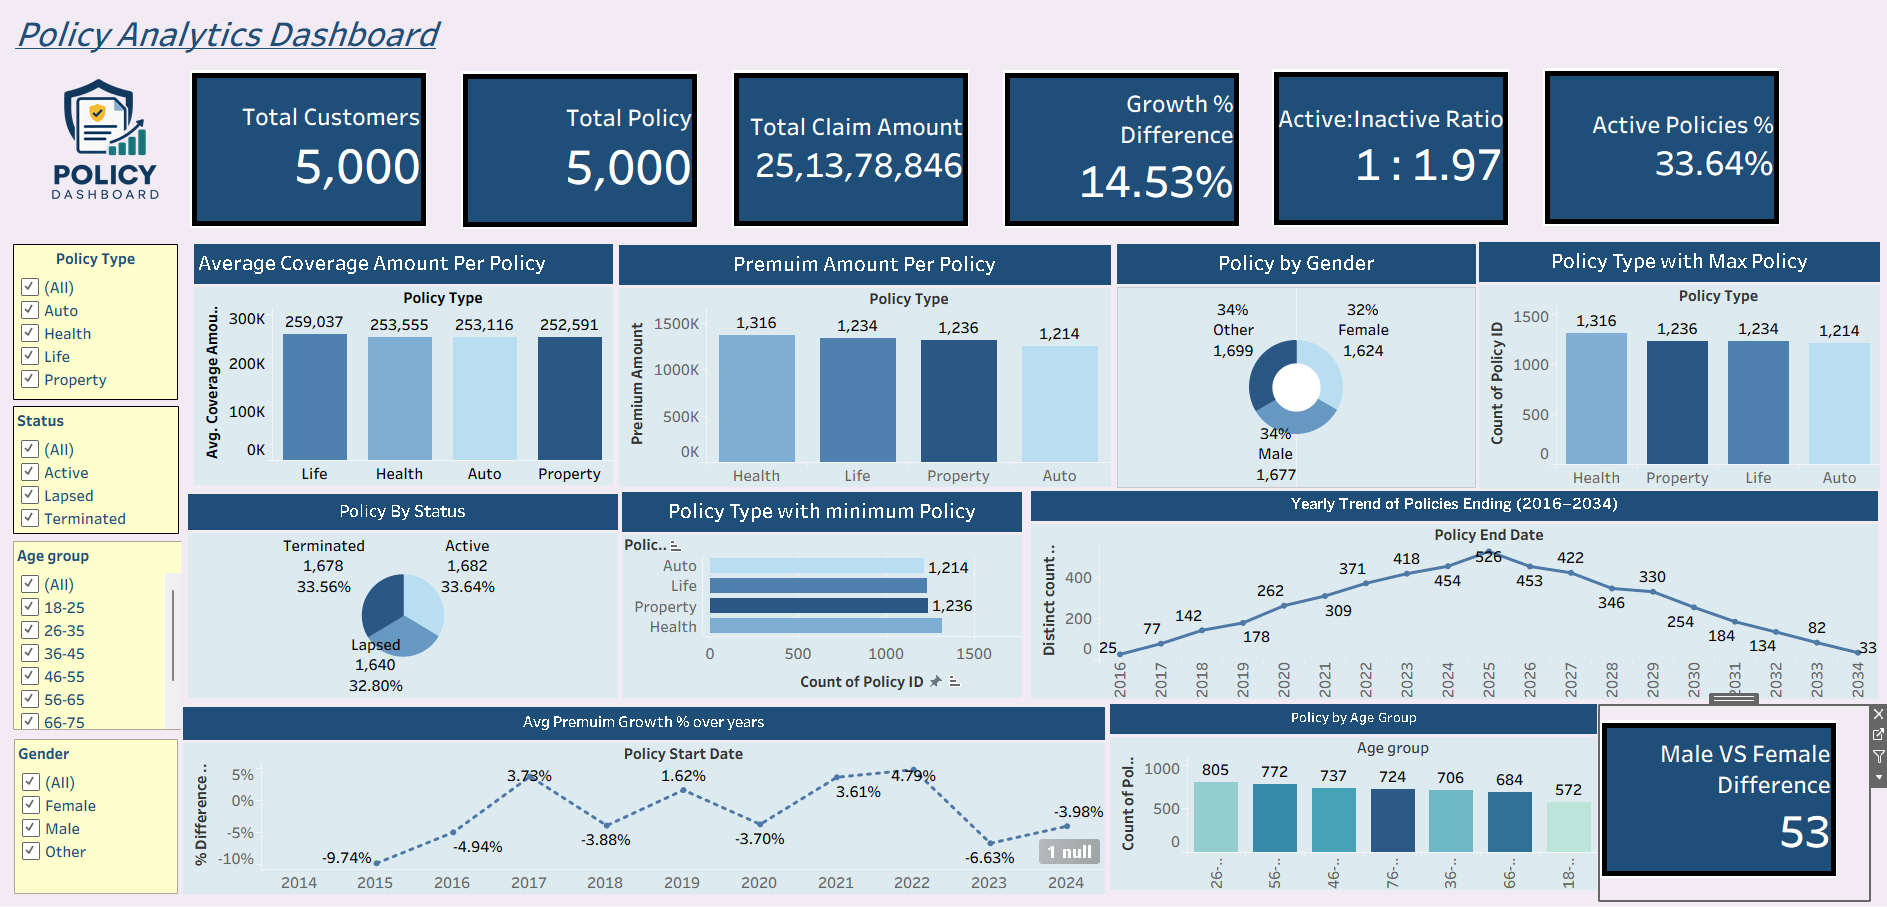

The dashboard page shown, as its layout file describes it:
{"tool":"tableau","page":{"name":"Dashboard 1","canvas":[1000,1000],"units":"permille","ordinal":0},"visuals":[{"type":"title","box":[4.2,9.4,991.5,67]},{"type":"worksheet","title":"6","mark":"Automatic","box":[817.1,63.5,149.7,203.3]},{"type":"worksheet","title":"9","mark":"Automatic","box":[673.5,64.6,148.5,232.7]},{"type":"worksheet","title":"1","mark":"Automatic","box":[100.8,65.8,149.7,203.3]},{"type":"worksheet","title":"3","mark":"Automatic","box":[387.4,65.8,143.6,213.9]},{"type":"worksheet","title":"19","mark":"Automatic","box":[531.1,65.8,158.7,204.5]},{"type":"worksheet","title":"2","mark":"Automatic","box":[244.4,67,146.1,205.6]},{"type":"worksheet","title":"14","mark":"Automatic","rows":["Policy ID"],"cols":["Policy Type"],"box":[783.3,270.3,212.4,271.4]},{"type":"filter","title":"4.1","param":"[federated.1rjwa8y1yr3f7s185h67c1y7q8z6].[none:Policy Type:nk]","box":[6.6,272.6,87.5,171.6]},{"type":"worksheet","title":"4.1","mark":"Automatic","rows":["Coverage Amount"],"cols":["Policy Type"],"box":[102.6,272.6,222.1,264.4]},{"type":"worksheet","title":"12","mark":"Pie","cols":["Calculation_1027810636406789","Calculation_1027810636406789"],"box":[591.4,272.6,190.1,267.9]},{"type":"worksheet","title":"5","mark":"Automatic","rows":["Premium Amount"],"cols":["Policy Type"],"box":[327.7,273.8,260.7,265.6]},{"type":"filter","title":"7,8","param":"[federated.1rjwa8y1yr3f7s185h67c1y7q8z6].[none:Status:nk]","box":[6.9,450.1,87.9,141]},{"type":"worksheet","title":"20","mark":"Line","rows":["Policy ID"],"cols":["Policy End Date"],"box":[543.1,542.9,436.9,226.8]},{"type":"worksheet","title":"15","mark":"Automatic","rows":["Policy Type"],"cols":["Policy ID"],"box":[329.5,544.1,211.8,226.8]},{"type":"worksheet","title":"7,8","mark":"Pie","box":[99.6,546.4,227.5,224.4]},{"type":"filter","title":"12","param":"[federated.1rjwa8y1yr3f7s185h67c1y7q8z6].[none:Calculation_1027810632351748:nk]","box":[6.6,598.1,89.3,208]},{"type":"worksheet","title":"13","mark":"Automatic","box":[849.7,774.4,153.3,212.7]},{"type":"worksheet","title":"10,11","mark":"Automatic","rows":["Policy Type"],"cols":["Calculation_1027810632351748"],"box":[587.8,776.7,258.3,205.6]},{"type":"worksheet","title":"18","mark":"Automatic","rows":["Premium Amount"],"cols":["Policy Start Date"],"box":[97.2,780.3,488.2,205.6]},{"type":"filter","title":"12","param":"[federated.1rjwa8y1yr3f7s185h67c1y7q8z6].[none:Gender:nk]","box":[7.2,815.5,86.9,170.4]}]}

Visuals, with their boxes on the dashboard's canvas, which has no fixed pixel size, in thousandths of its width and height (x1, y1, x2, y2). These are canvas units, not pixel positions in the 1887x907 screenshot, which may show the page scaled, cropped or inside an application window:
title: (left=4, top=9, right=996, bottom=76)
"6" worksheet: (left=817, top=64, right=967, bottom=267)
"9" worksheet: (left=674, top=65, right=822, bottom=297)
"1" worksheet: (left=101, top=66, right=250, bottom=269)
"3" worksheet: (left=387, top=66, right=531, bottom=280)
"19" worksheet: (left=531, top=66, right=690, bottom=270)
"2" worksheet: (left=244, top=67, right=390, bottom=273)
"14" worksheet: (left=783, top=270, right=996, bottom=542)
"4.1" filter: (left=7, top=273, right=94, bottom=444)
"4.1" worksheet: (left=103, top=273, right=325, bottom=537)
"12" worksheet (Pie marks): (left=591, top=273, right=782, bottom=540)
"5" worksheet: (left=328, top=274, right=588, bottom=539)
"7,8" filter: (left=7, top=450, right=95, bottom=591)
"20" worksheet (Line marks): (left=543, top=543, right=980, bottom=770)
"15" worksheet: (left=330, top=544, right=541, bottom=771)
"7,8" worksheet (Pie marks): (left=100, top=546, right=327, bottom=771)
"12" filter: (left=7, top=598, right=96, bottom=806)
"13" worksheet: (left=850, top=774, right=1003, bottom=987)
"10,11" worksheet: (left=588, top=777, right=846, bottom=982)
"18" worksheet: (left=97, top=780, right=585, bottom=986)
"12" filter: (left=7, top=816, right=94, bottom=986)
